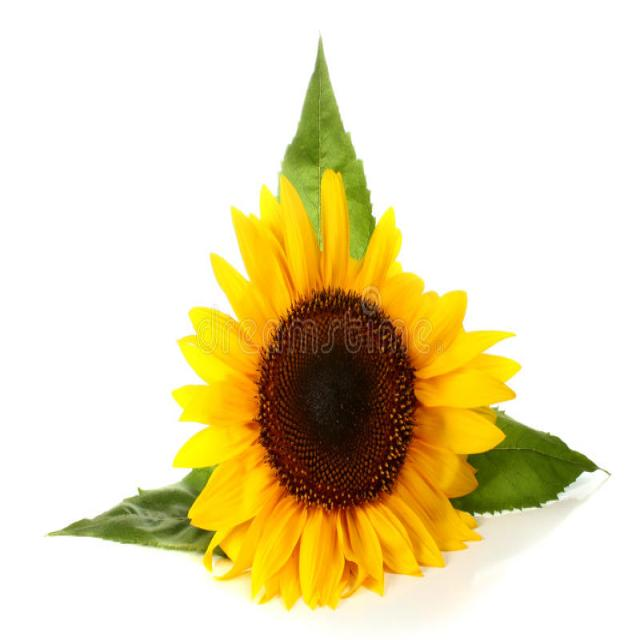sunflower: (165, 166, 532, 632)
